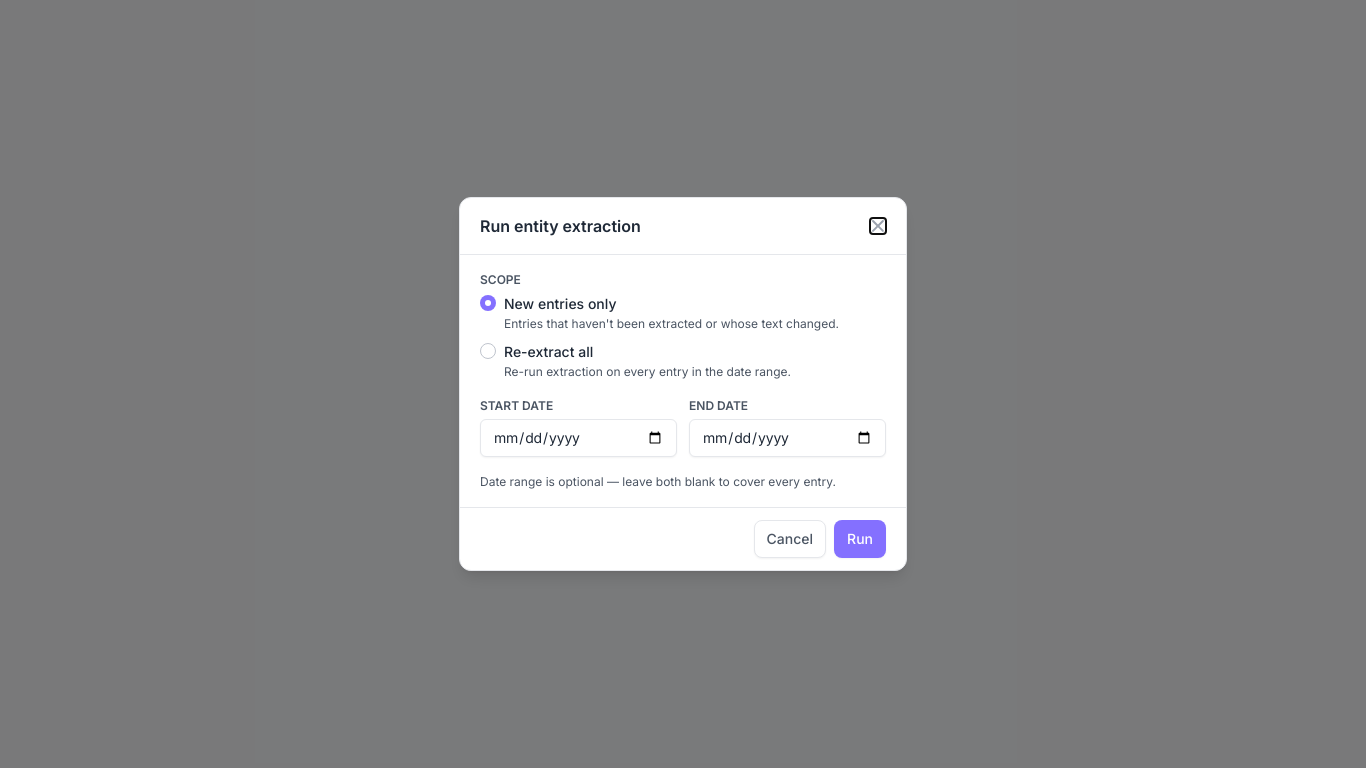
Scenario: BatchJobModal › if startEntityExtraction throws, transitions directly to error with the thrown message
Click the button with test id "batch-modal-run" at (860, 539), box [834, 520, 886, 558]
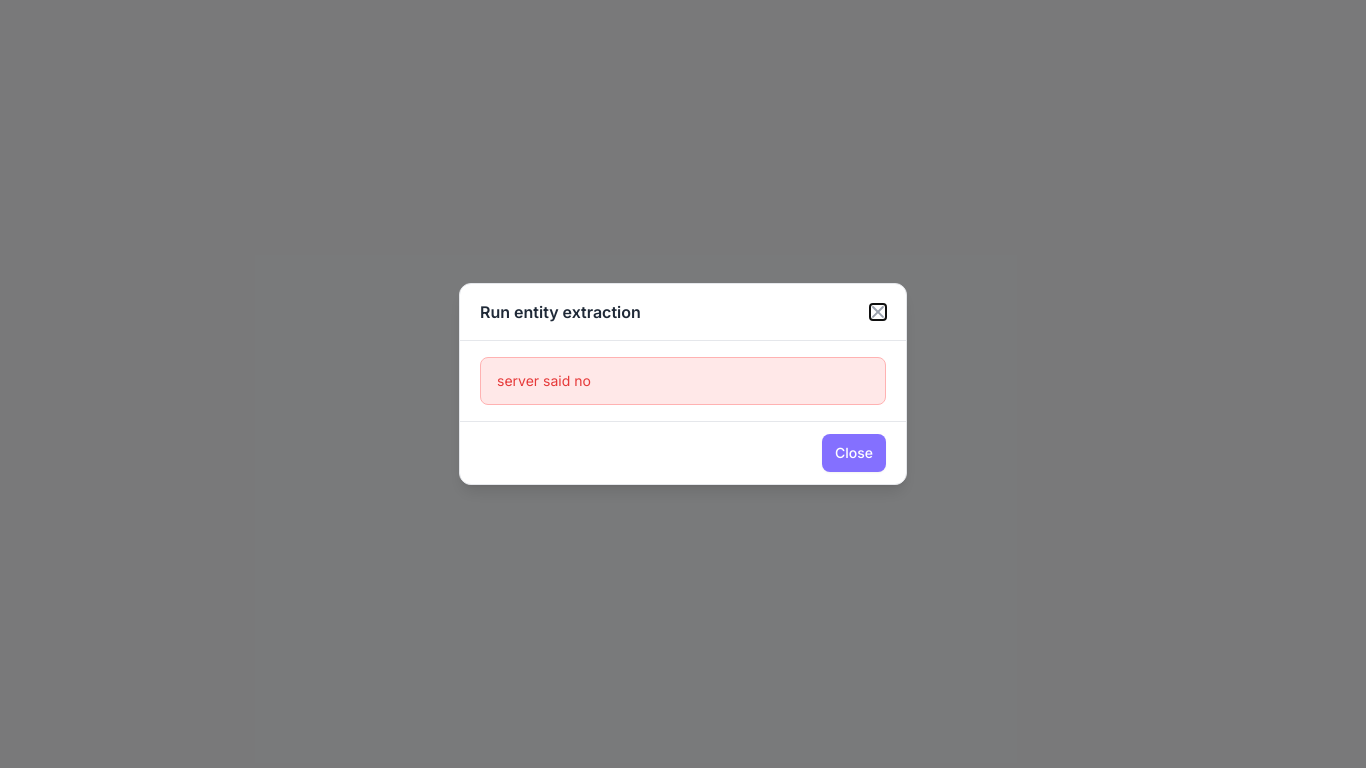
expect the element with test id "batch-modal-error" is shown: met, box [480, 357, 886, 405]
expect the element with test id "batch-modal-error" reads "server said no": met, box [497, 372, 591, 389]
